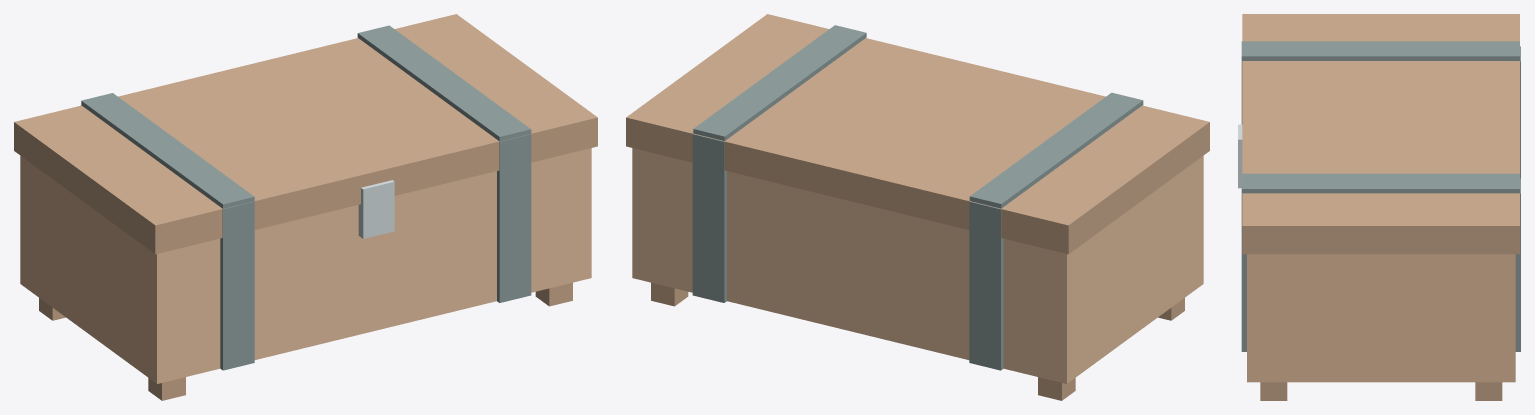
The model's file is coffeeTrunk.glb.
The picture shows the model from 3 angles, left to right: view 1: azimuth 30°, elevation 25°; view 2: azimuth 150°, elevation 25°; view 3: azimuth 270°, elevation 25°; orthographic projection.
Parts seen in each view (by area): view 1: coffeeTrunk; view 2: coffeeTrunk; view 3: coffeeTrunk.
Boxes of the visible parts, left/top/right/bottom form: coffeeTrunk: left=14, top=14, right=597, bottom=400; coffeeTrunk: left=626, top=14, right=1209, bottom=400; coffeeTrunk: left=1238, top=14, right=1520, bottom=400.
Size of the model in its own units: 0.56 by 0.231 by 0.316.
